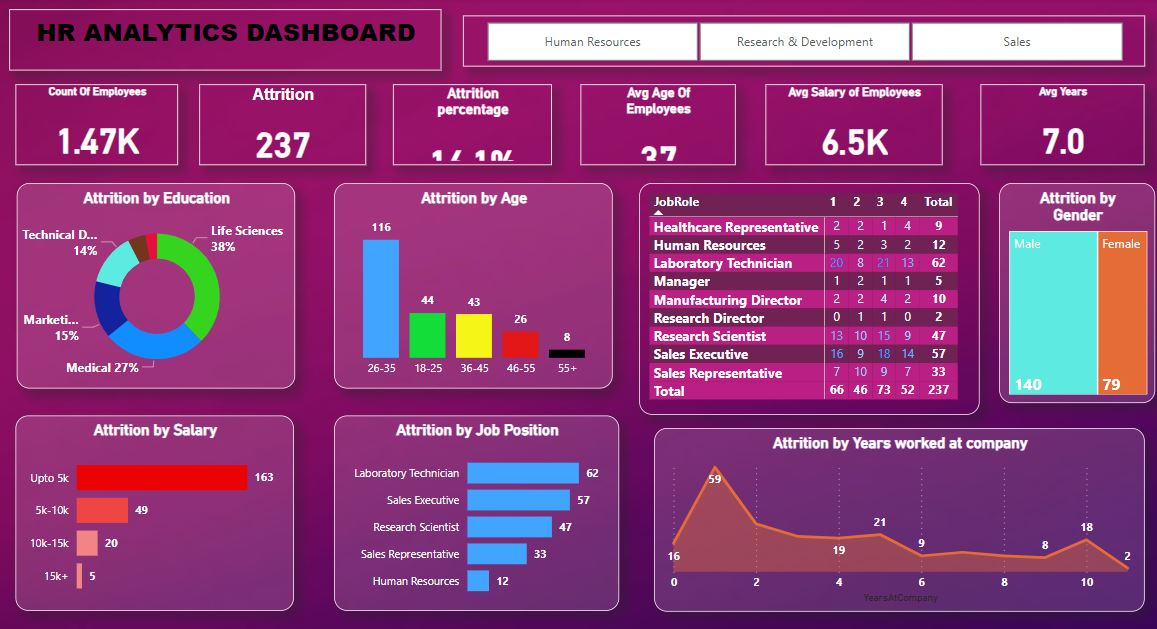

The dashboard page shown, as its layout file describes it:
{"tool":"powerbi","page":{"name":"Page 1","canvas":[1280,720],"ordinal":0},"visuals":[{"type":"cardVisual","title":"Count Of Employees","fields":{"Data":["CountNonNull(Sheet1.EmpID)"]},"box":[18.6,94.3,178.6,88.6],"z":0},{"type":"cardVisual","title":"Attrition","fields":{"Data":["Sum(Sheet1.Attrition Count)"]},"box":[221.4,94.3,182.9,88.6],"z":1000},{"type":"cardVisual","title":"Avg Age Of Employees","fields":{"Data":["Avg(Sheet1.Age)"]},"box":[640,94.3,170,88.6],"z":2000},{"type":"cardVisual","title":"Attrition percentage","fields":{"Data":["Sheet1.Attrition Rate"]},"box":[434.3,94.3,174.3,88.6],"z":3000},{"type":"cardVisual","title":"Avg Salary of Employees","fields":{"Data":["Avg(Sheet1.MonthlyIncome)"]},"box":[842.9,94.3,194.3,88.6],"z":4000},{"type":"cardVisual","title":"Avg Years ","fields":{"Data":["Avg(Sheet1.YearsAtCompany)"]},"box":[1078.6,94.3,180,88.6],"z":5000},{"type":"donutChart","title":"Attrition  by Education","fields":{"Category":["Sheet1.EducationField"],"Y":["Sum(Sheet1.Attrition Count)"]},"box":[20,202.9,305.7,225.7],"z":5001},{"type":"clusteredColumnChart","title":"Attrition  by Age","fields":{"Category":["Sheet1.AgeGroup"],"Y":["Sum(Sheet1.Attrition Count)"]},"box":[368.6,202.9,305.7,225.7],"z":5002},{"type":"pivotTable","fields":{"Rows":["Sheet1.JobRole"],"Columns":["Sheet1.JobSatisfaction"],"Values":["Sum(Sheet1.Attrition Count)"]},"box":[704,202.7,373.5,254.1],"z":5003},{"type":"barChart","title":"Attrition  by Salary","fields":{"Category":["Sheet1.SalarySlab"],"Y":["Sum(Sheet1.Attrition Count)"]},"box":[18.6,458.6,305.7,214.3],"z":5004},{"type":"barChart","title":"Attrition  by Job Position","fields":{"Category":["Sheet1.JobRole"],"Y":["Sum(Sheet1.Attrition Count)"]},"box":[368.6,458.6,312.9,214.3],"z":5005},{"type":"areaChart","title":"Attrition  by Years worked at company","fields":{"Category":["Sheet1.YearsAtCompany"],"Y":["Sum(Sheet1.Attrition Count)"]},"box":[720,471.4,538.6,201.4],"z":5006},{"type":"treemap","title":"Attrition  by Gender","fields":{"Group":["Sheet1.Gender"],"Values":["Sum(Sheet1.Attrition Count)"]},"box":[1098.6,202.9,171.4,241.4],"z":5007},{"type":"slicer","fields":{"Values":["Sheet1.Department"]},"box":[510,18.6,748.6,55.7],"z":5008},{"type":"textbox","box":[12.9,12.9,474.3,67.1],"z":5009}]}

Visuals, with their boxes in screenshot pixels (x1, y1, x2, y2):
"Count Of Employees" cardVisual: bbox(20, 84, 179, 164)
"Attrition" cardVisual: bbox(201, 84, 365, 164)
"Avg Age Of Employees" cardVisual: bbox(575, 84, 727, 164)
"Attrition percentage" cardVisual: bbox(391, 84, 547, 164)
"Avg Salary of Employees" cardVisual: bbox(757, 84, 930, 164)
"Avg Years " cardVisual: bbox(968, 84, 1128, 164)
"Attrition  by Education" donutChart: bbox(21, 181, 294, 383)
"Attrition  by Age" clusteredColumnChart: bbox(333, 181, 606, 383)
pivotTable - Sheet1.JobRole x Sheet1.JobSatisfaction: bbox(633, 181, 967, 408)
"Attrition  by Salary" barChart: bbox(20, 410, 293, 602)
"Attrition  by Job Position" barChart: bbox(333, 410, 612, 602)
"Attrition  by Years worked at company" areaChart: bbox(647, 422, 1128, 602)
"Attrition  by Gender" treemap: bbox(985, 181, 1139, 397)
slicer - Sheet1.Department: bbox(459, 17, 1128, 66)
textbox: bbox(15, 12, 439, 72)
